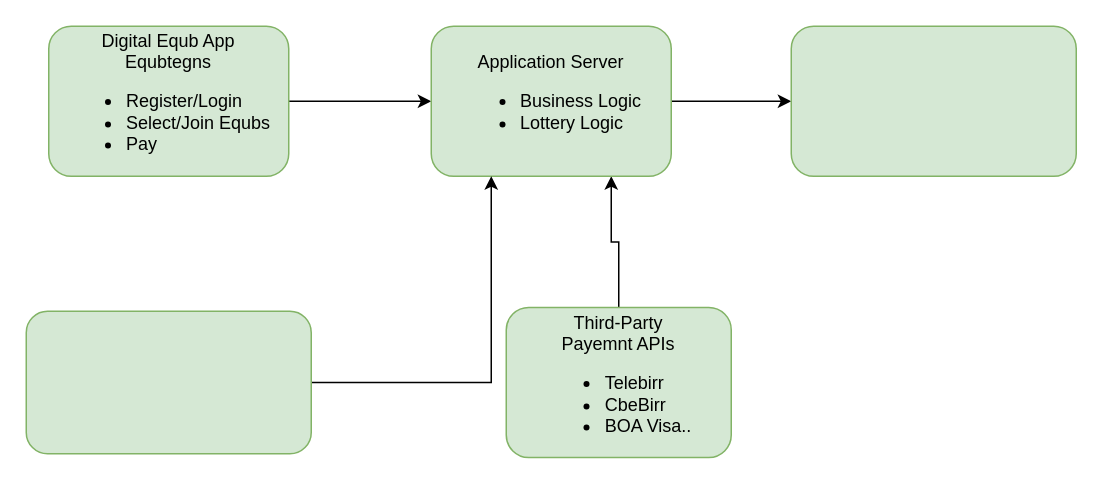
Image size: 1103x485. Some labels were removed from this diagram. The centre of each missing label's shape, as x and y in pixels:
Database Equbs Data Equbtegnas Information Payments and Its Records: the point at 933,100
Portal/Admin Dashboard Manage Equbs Manage Equbtegnas Monitor Payments Records: the point at 168,382
